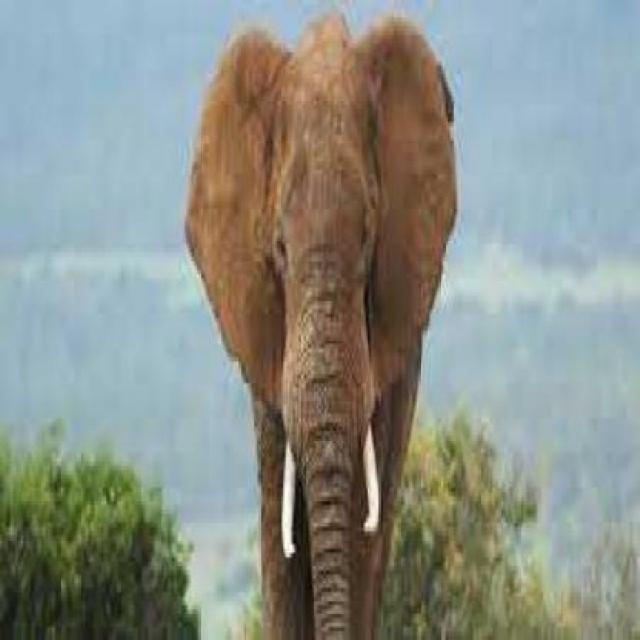Elephant: (177, 8, 466, 640)
